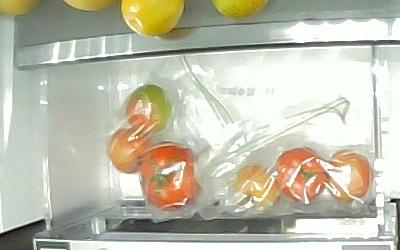tomato_vinyl: (138, 140, 202, 210), (272, 145, 329, 203), (121, 83, 173, 133), (326, 147, 374, 201), (230, 162, 280, 210), (106, 126, 155, 174)
